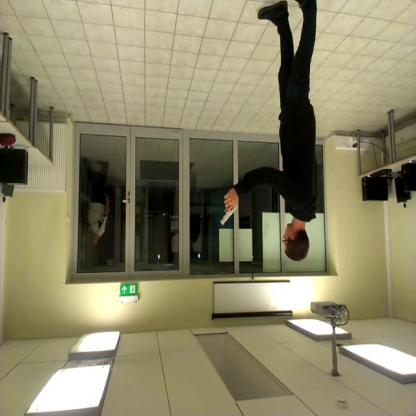Pistol: (212, 186, 243, 228)
